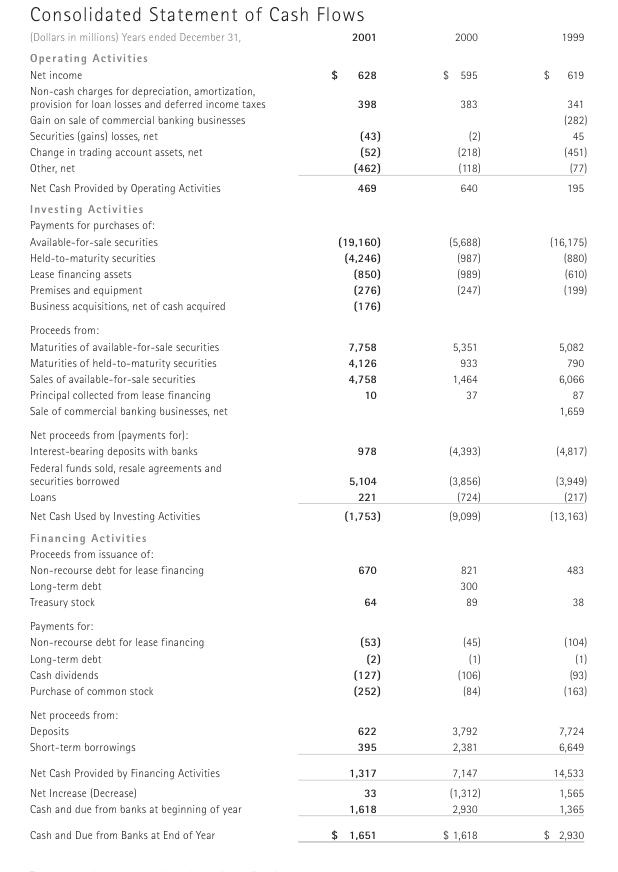table: (28, 28, 586, 840)
table column: (28, 28, 297, 840), (297, 28, 410, 840), (410, 28, 511, 840), (511, 28, 586, 840)
table column header: (28, 28, 586, 46)
table projected row header: (28, 317, 586, 337), (28, 422, 586, 442), (28, 613, 586, 633), (28, 46, 586, 65), (28, 197, 586, 216), (28, 525, 586, 544), (28, 702, 586, 721), (28, 216, 586, 232), (28, 544, 586, 560)
table row: (28, 81, 586, 110), (28, 458, 586, 487), (28, 759, 586, 781), (28, 176, 586, 197), (28, 592, 586, 613), (28, 681, 586, 702), (28, 738, 586, 759), (28, 799, 586, 820), (28, 297, 586, 317), (28, 317, 586, 337), (28, 402, 586, 422), (28, 422, 586, 442), (28, 505, 586, 525), (28, 613, 586, 633), (28, 820, 586, 840), (28, 46, 586, 65), (28, 197, 586, 216), (28, 525, 586, 544), (28, 702, 586, 721), (28, 28, 586, 46), (28, 487, 586, 505), (28, 781, 586, 799), (28, 142, 586, 159), (28, 159, 586, 176), (28, 280, 586, 297), (28, 385, 586, 402), (28, 560, 586, 577), (28, 721, 586, 738), (28, 65, 586, 81), (28, 110, 586, 126), (28, 126, 586, 142), (28, 216, 586, 232), (28, 232, 586, 248), (28, 248, 586, 264), (28, 264, 586, 280), (28, 337, 586, 353), (28, 353, 586, 369), (28, 369, 586, 385), (28, 442, 586, 458), (28, 544, 586, 560), (28, 633, 586, 649), (28, 649, 586, 665), (28, 665, 586, 681), (28, 577, 586, 592)
